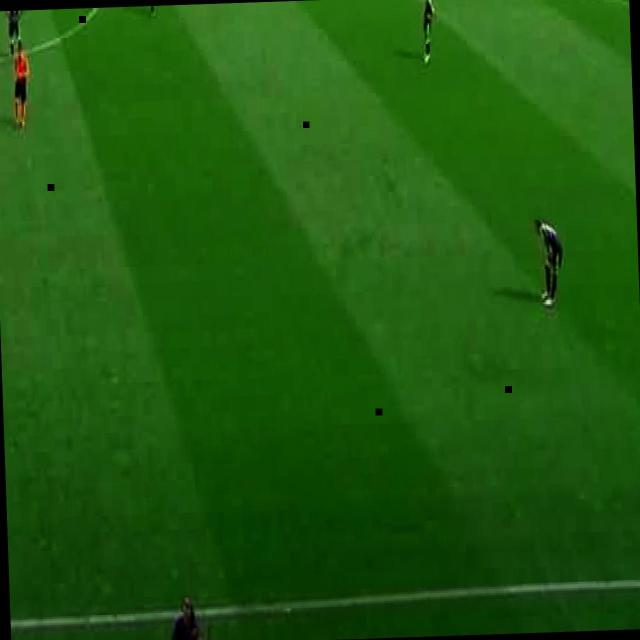player-white: (534, 217, 564, 309), (11, 42, 31, 132), (420, 0, 436, 66), (6, 10, 24, 62)
